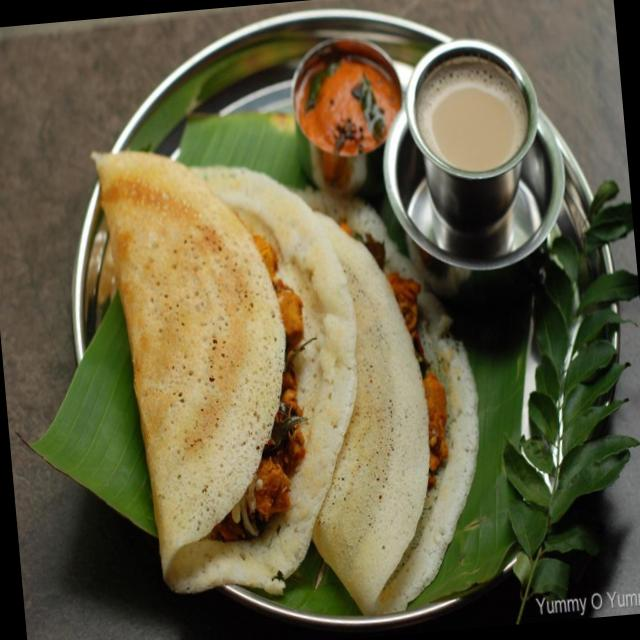rice: (83, 106, 478, 622)
